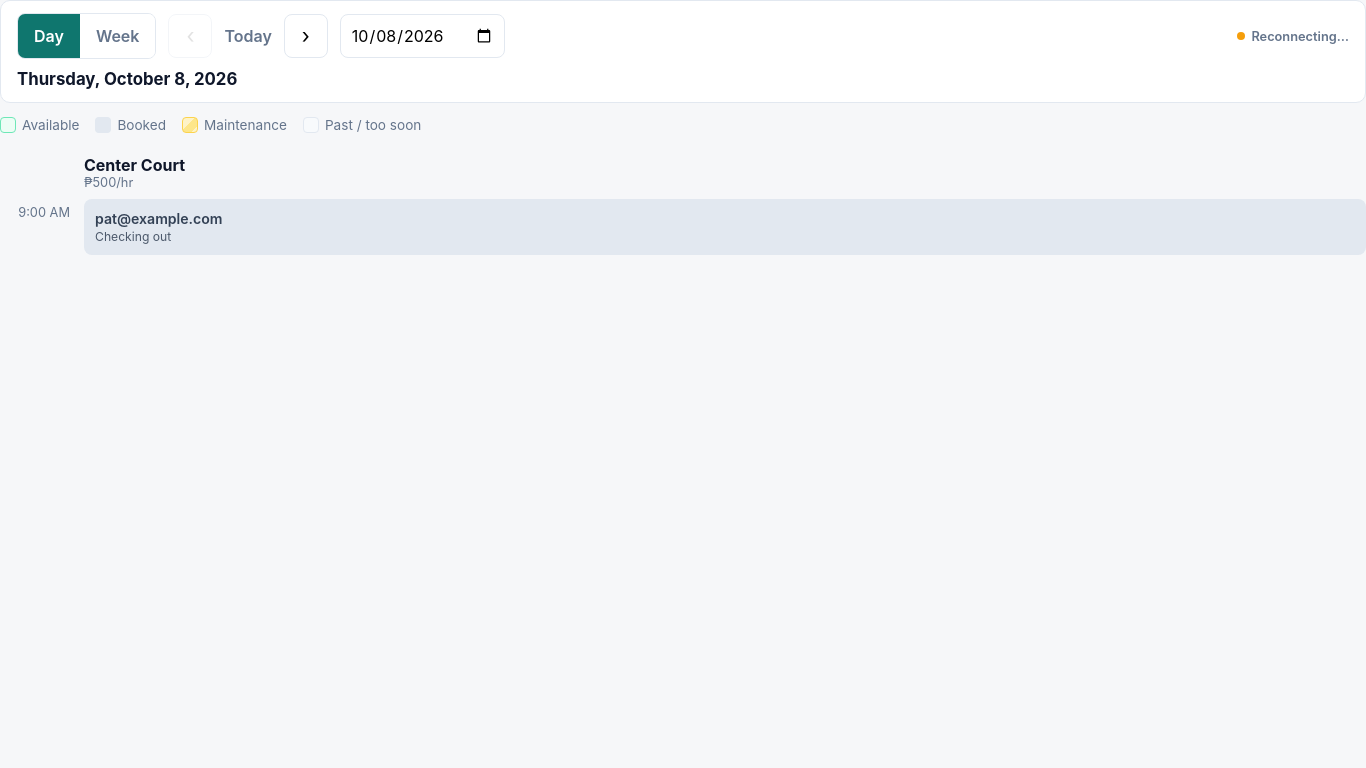
it: owner view › can't change a booking while the player is checking out
This screenshot has width=1366, height=768.
Step 1. Click the button named "Booked by pat@example.com, Checking out" → (159, 218), box [84,199,1365,255]
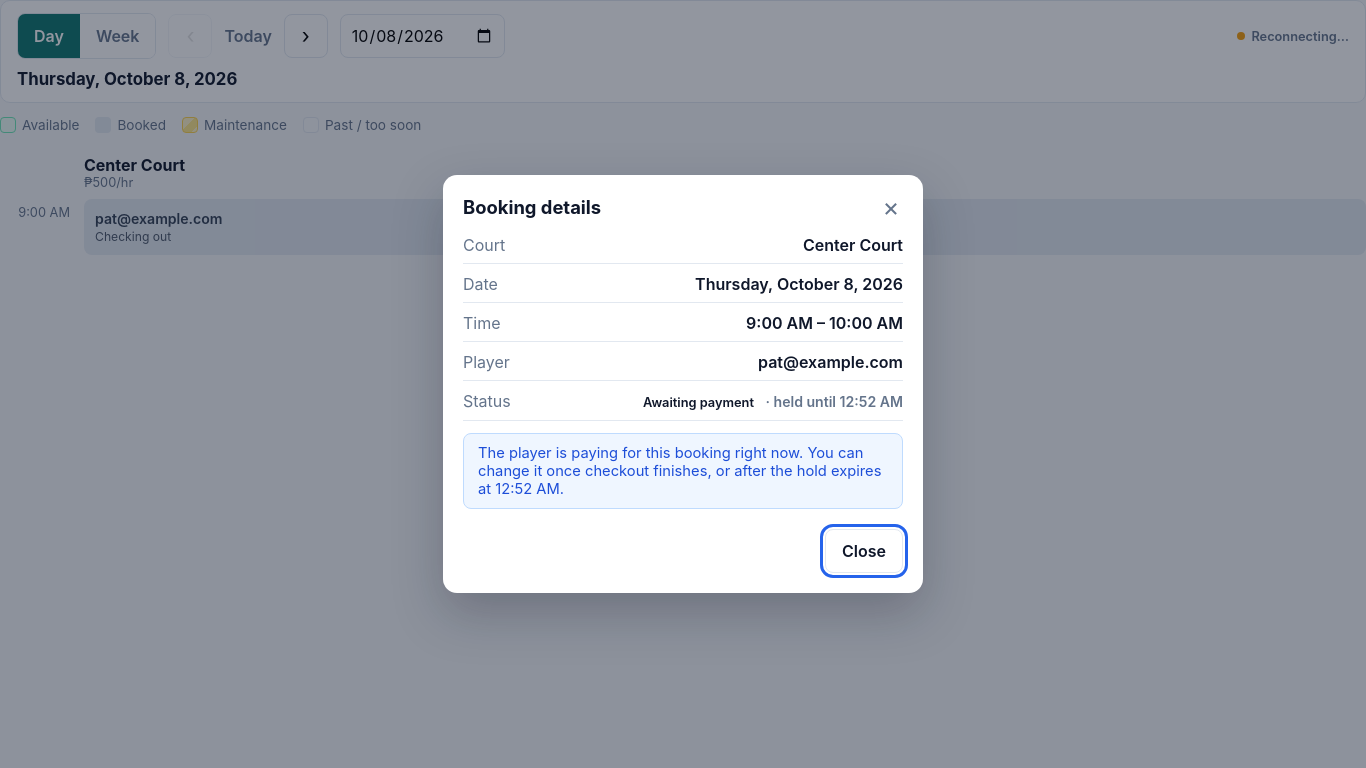
Expected: the text "paying for this booking right now" is shown, [478,444,882,498]
